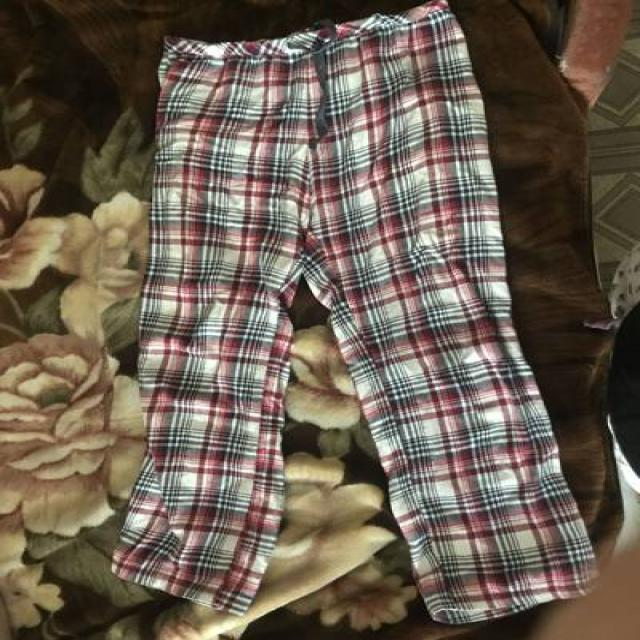Clothes -Biodegradable-: (109, 4, 598, 625)
